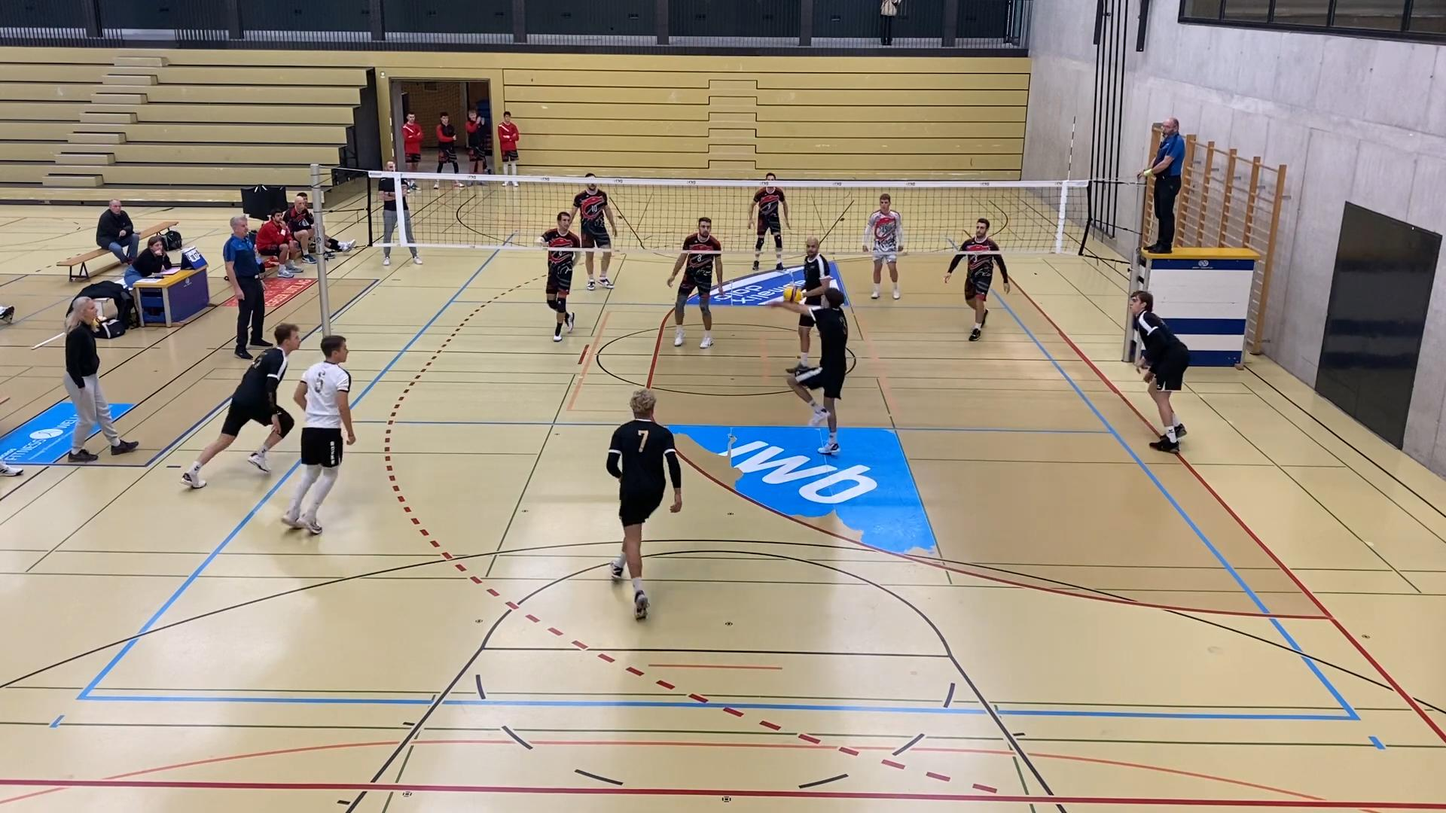Player: (182, 323, 300, 488), (606, 389, 682, 619), (282, 336, 355, 534), (1129, 291, 1189, 452), (944, 218, 1009, 340), (667, 218, 723, 348), (537, 212, 581, 341), (571, 182, 616, 288), (863, 193, 903, 299), (749, 172, 790, 270), (802, 236, 829, 305)
Set: (765, 283, 850, 461)
ball: (780, 283, 803, 305)
